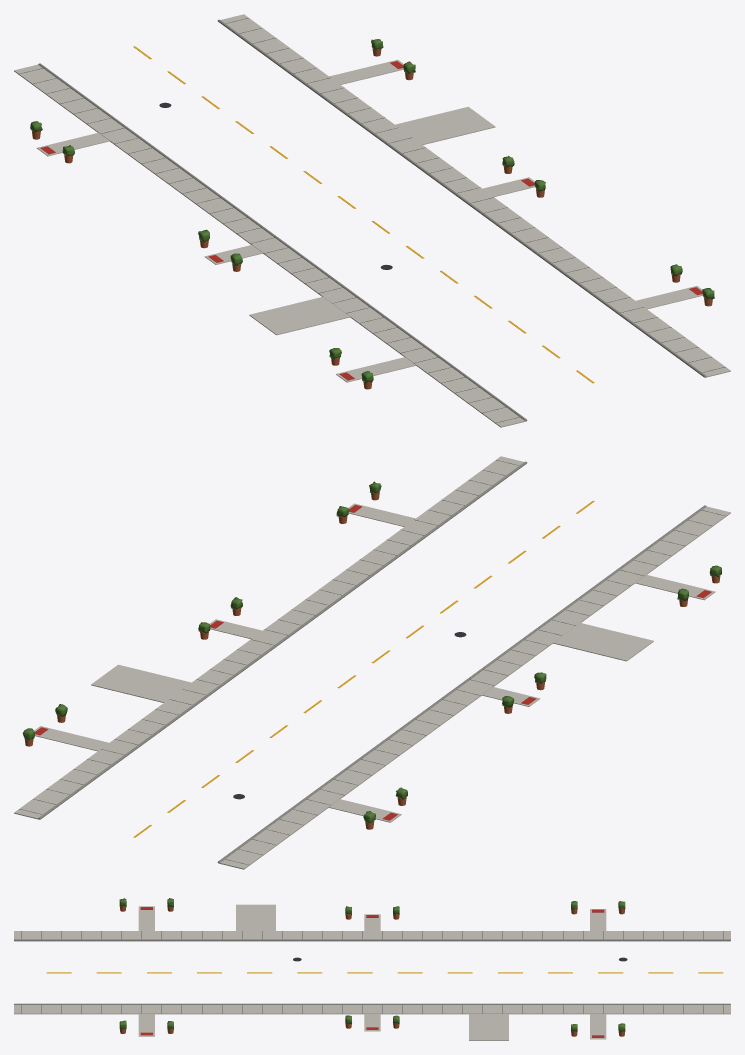
The model's file is cg-street.glb.
3 renders of one model, top to bottom at view 1: azimuth 30°, elevation 25°; view 2: azimuth 150°, elevation 25°; view 3: azimuth 270°, elevation 25°, orthographic. The views are drawn at different scales.
Parts seen in each view (by area): view 1: cg-street; view 2: cg-street; view 3: cg-street.
Part boxes in pixels (x1=…): cg-street: x1=14, y1=14, x2=730, y2=427; cg-street: x1=14, y1=456, x2=730, y2=869; cg-street: x1=14, y1=898, x2=730, y2=1040.
Bounding box in the file's own units: 25.6 × 0.975 × 57.2.
